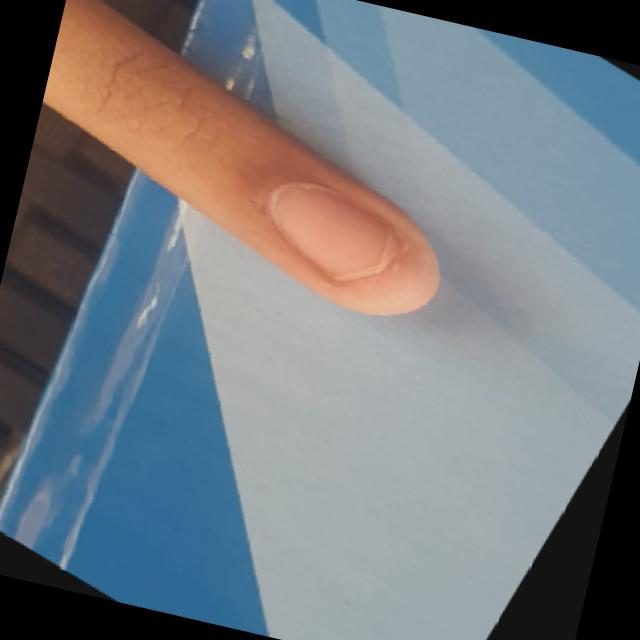Nail: (267, 184, 398, 283)
